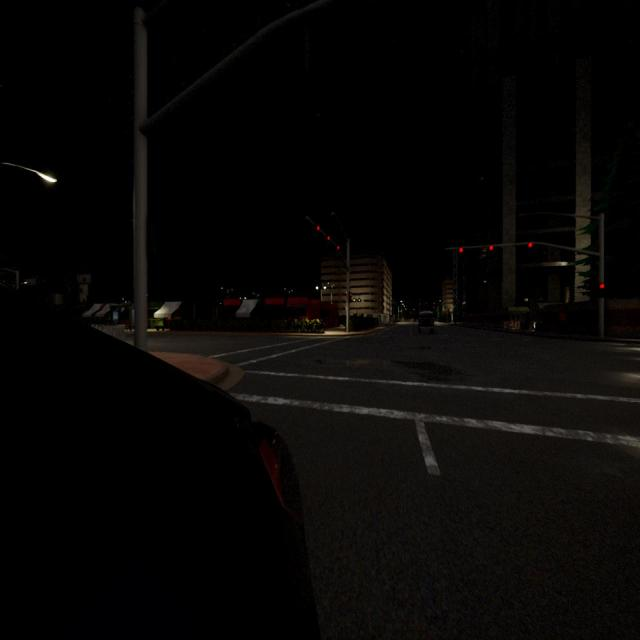Vehicle: (0, 289, 319, 640), (417, 311, 435, 332)
traffic_light: (600, 283, 604, 298), (458, 247, 464, 257), (489, 245, 494, 255), (528, 242, 532, 254), (348, 292, 352, 303), (317, 226, 320, 234), (327, 236, 330, 244), (337, 246, 339, 255)
